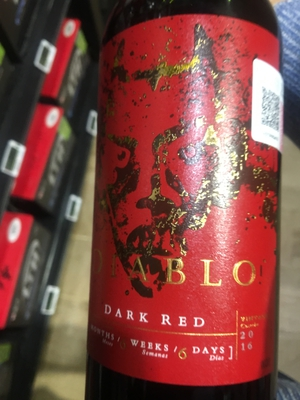diablo dark red: (85, 20, 300, 397)
